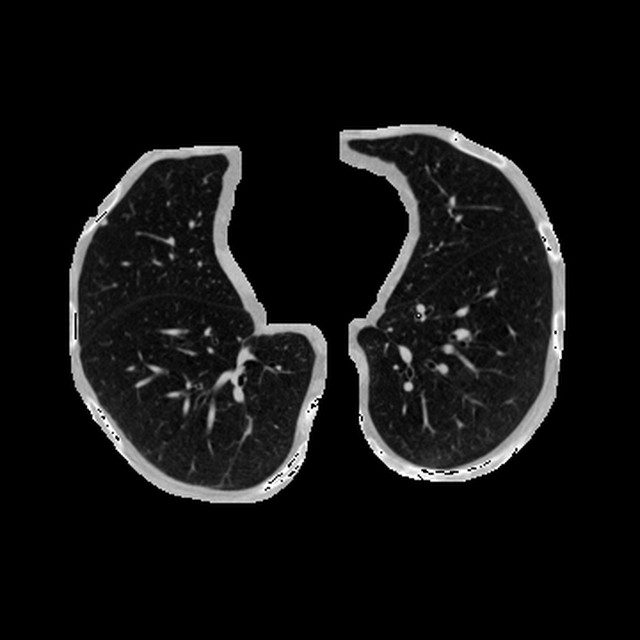PN: (100, 219, 107, 226)
